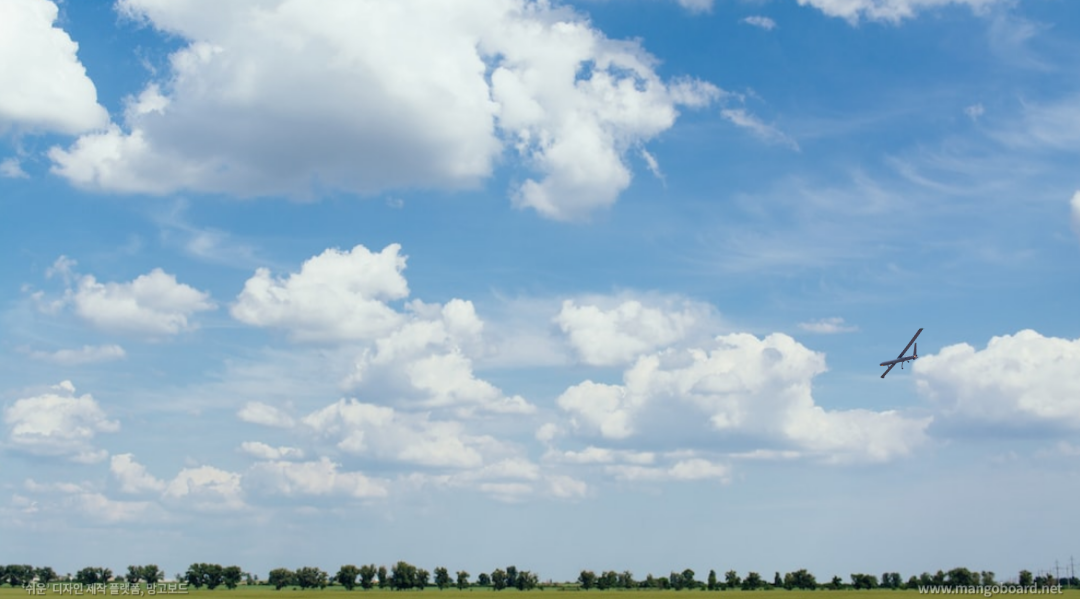military drone: (879, 328, 923, 378)
